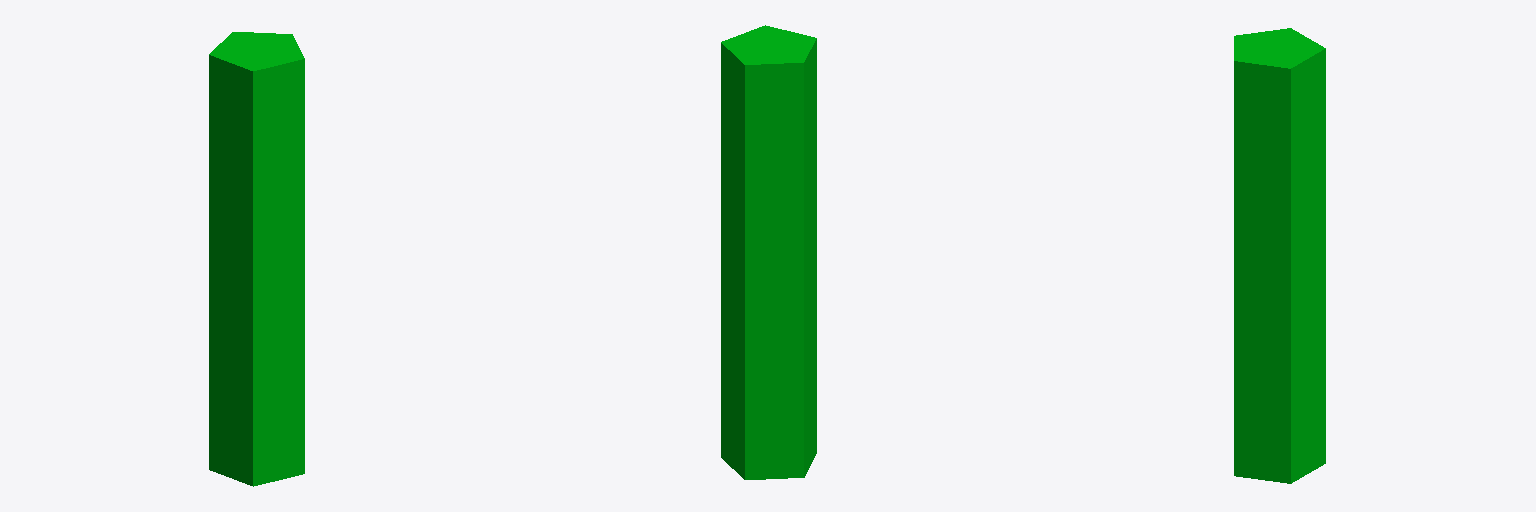
Rendered from grab_flower_grabber_stem.obj.
The picture shows the model from 3 angles: view 1: azimuth 30°, elevation 25°; view 2: azimuth 150°, elevation 25°; view 3: azimuth 270°, elevation 25°; orthographic projection.
Visible parts, largest first — view 1: Circle; view 2: Circle; view 3: Circle.
Part boxes in pixels (left/top/right/bottom): Circle: left=209, top=32, right=304, bottom=486; Circle: left=721, top=25, right=816, bottom=479; Circle: left=1234, top=28, right=1325, bottom=483.
Size of the model in its own units: 0.2113 by 1 by 0.201.